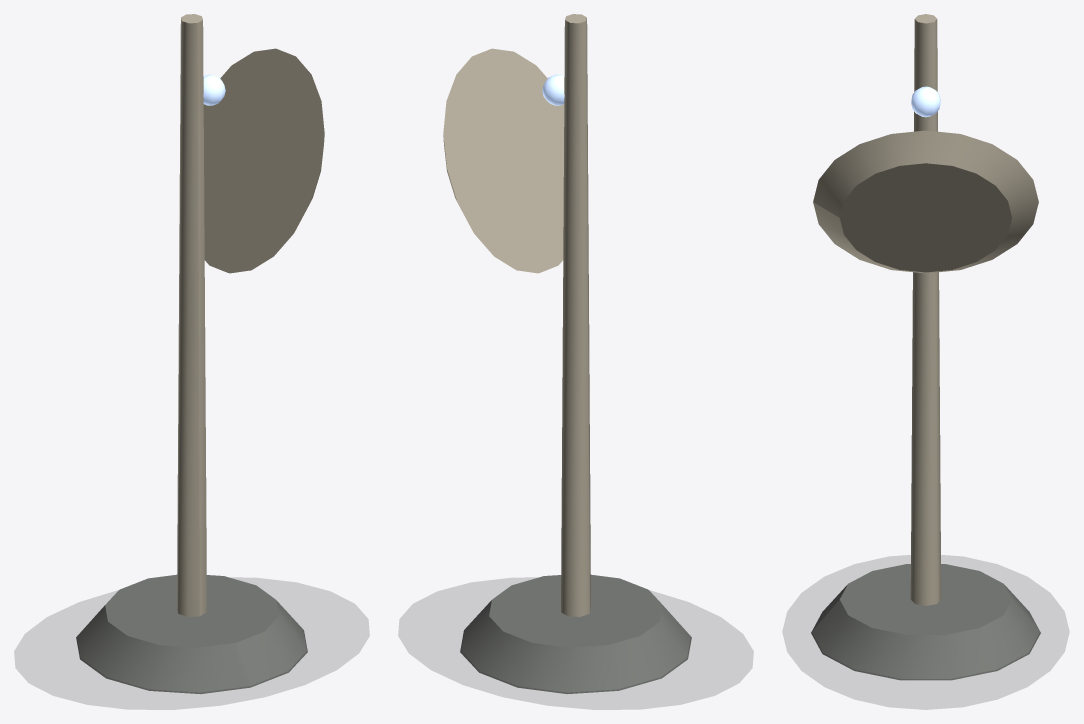
The model's file is relay_antenna.glb.
3 renders of one model, left to right at view 1: azimuth 30°, elevation 25°; view 2: azimuth 150°, elevation 25°; view 3: azimuth 270°, elevation 25°, orthographic.
Parts seen in each view (by area): view 1: dish, concrete_base, thin_mast, baked_contact_shadow, signal_lamp; view 2: dish, concrete_base, thin_mast, baked_contact_shadow, signal_lamp; view 3: dish, concrete_base, baked_contact_shadow, thin_mast, signal_lamp.
Part boxes in pixels (bbox=[...]): dish: bbox=[203, 48, 324, 273]; concrete_base: bbox=[76, 574, 307, 694]; thin_mast: bbox=[177, 14, 206, 616]; baked_contact_shadow: bbox=[14, 578, 369, 709]; signal_lamp: bbox=[203, 74, 225, 105]; dish: bbox=[443, 48, 564, 273]; concrete_base: bbox=[460, 574, 691, 694]; thin_mast: bbox=[561, 14, 590, 616]; baked_contact_shadow: bbox=[398, 578, 753, 709]; signal_lamp: bbox=[542, 74, 564, 105]; dish: bbox=[813, 130, 1038, 273]; concrete_base: bbox=[811, 564, 1040, 680]; baked_contact_shadow: bbox=[783, 555, 1068, 709]; thin_mast: bbox=[910, 14, 941, 605]; signal_lamp: bbox=[911, 86, 940, 117].
Bounding box in the file's own units: 1.8 × 3.3 × 1.4.
